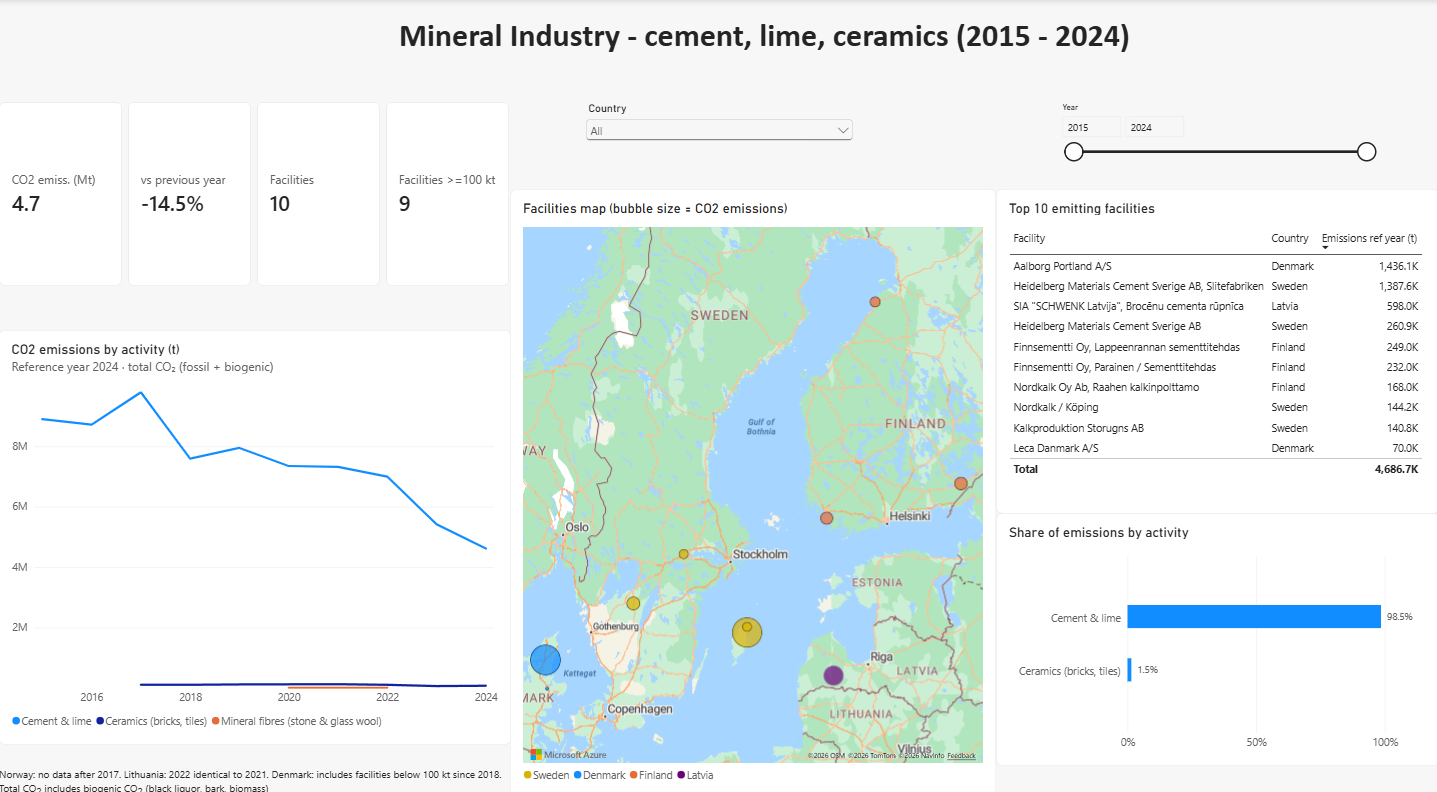

This screenshot's page, from the dashboard's own definition file:
{"tool":"powerbi","page":{"name":"Mineral industry","canvas":[1920,1080],"ordinal":1},"visuals":[{"type":"textbox","box":[112.5,35,1807.5,87.5],"z":0},{"type":"cardVisual","fields":{"Data":["_Measures.Emissions ref year","_Measures.YoY ref year","_Measures.Sites ref year","_Measures.Share of total industrial CO2"]},"box":[0,152.5,602.5,302.5],"z":1000},{"type":"lineChart","title":"CO2 emissions by activity (t)","fields":{"Category":["Years.Year"],"Series":["Sites.Activity"],"Y":["_Measures.Emissions (t)"]},"box":[0,455,602.5,552.5],"z":2000},{"type":"barChart","title":"Share of emissions by activity","fields":{"Category":["Sites.Activity"],"Y":["_Measures.Activity share"]},"box":[1330,700,590,337.5],"z":3000},{"type":"azureMap","title":"Facilities map (bubble size = CO2 emissions)","fields":{"Series":["Sites.countryName"],"Size":["_Measures.Emissions (t)"],"X":["Sites.Lon_map"],"Y":["Sites.Lat_map"]},"box":[602.5,267.5,727.5,812.5],"z":4000},{"type":"tableEx","title":"Top 10 emitting facilities","fields":{"Values":["Sites.facilityName","Sites.countryName","_Measures.Emissions ref year"]},"box":[1330,267.5,590,432.5],"z":5000},{"type":"slicer","fields":{"Values":["Sites.countryName"]},"box":[777.5,152.5,365,112.5],"z":6000},{"type":"slicer","fields":{"Values":["Years.Year"]},"box":[1410,152.5,430,115],"z":8000},{"type":"textbox","box":[0,1037.5,950,42.5],"z":9000}]}

Visuals, with their boxes in screenshot pixels (x1, y1, x2, y2), scaled from the page's 1920x1080 canvas onto the 1437x792 screenshot:
textbox: region(84, 26, 1436, 90)
cardVisual - _Measures.Emissions ref year x _Measures.YoY ref year: region(0, 112, 451, 334)
"CO2 emissions by activity (t)" lineChart: region(0, 334, 451, 739)
"Share of emissions by activity" barChart: region(995, 513, 1436, 761)
"Facilities map (bubble size = CO2 emissions)" azureMap: region(451, 196, 995, 791)
"Top 10 emitting facilities" tableEx: region(995, 196, 1436, 513)
slicer - Sites.countryName: region(582, 112, 855, 194)
slicer - Years.Year: region(1055, 112, 1377, 196)
textbox: region(0, 761, 711, 791)
